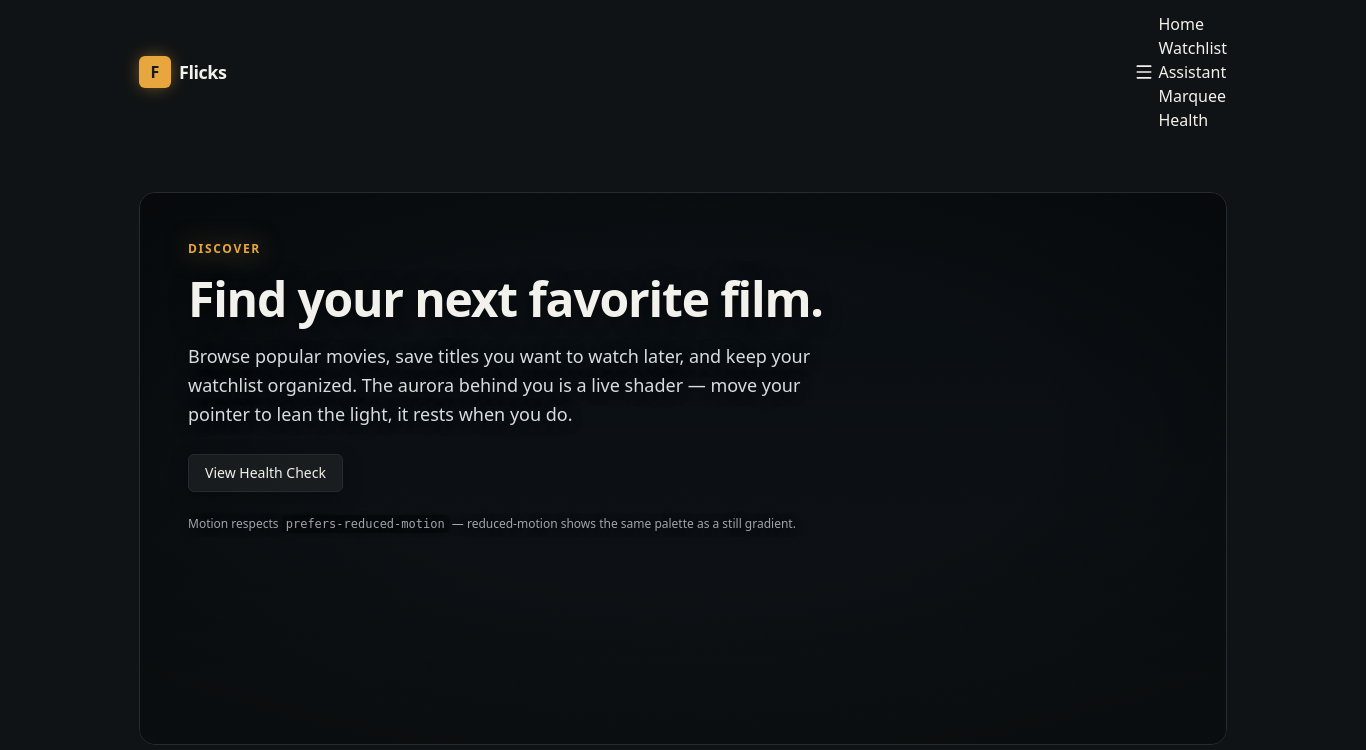
Test: App routing › navigates between routes without a full page load
Expected: the heading "Find your next favorite film." is shown, [188,266,823,331]
What coordinates should you click on to do the following:
click the link "Watchlist"
I would click on:
 (1193, 48)
Its box is [1158,36,1227,60].
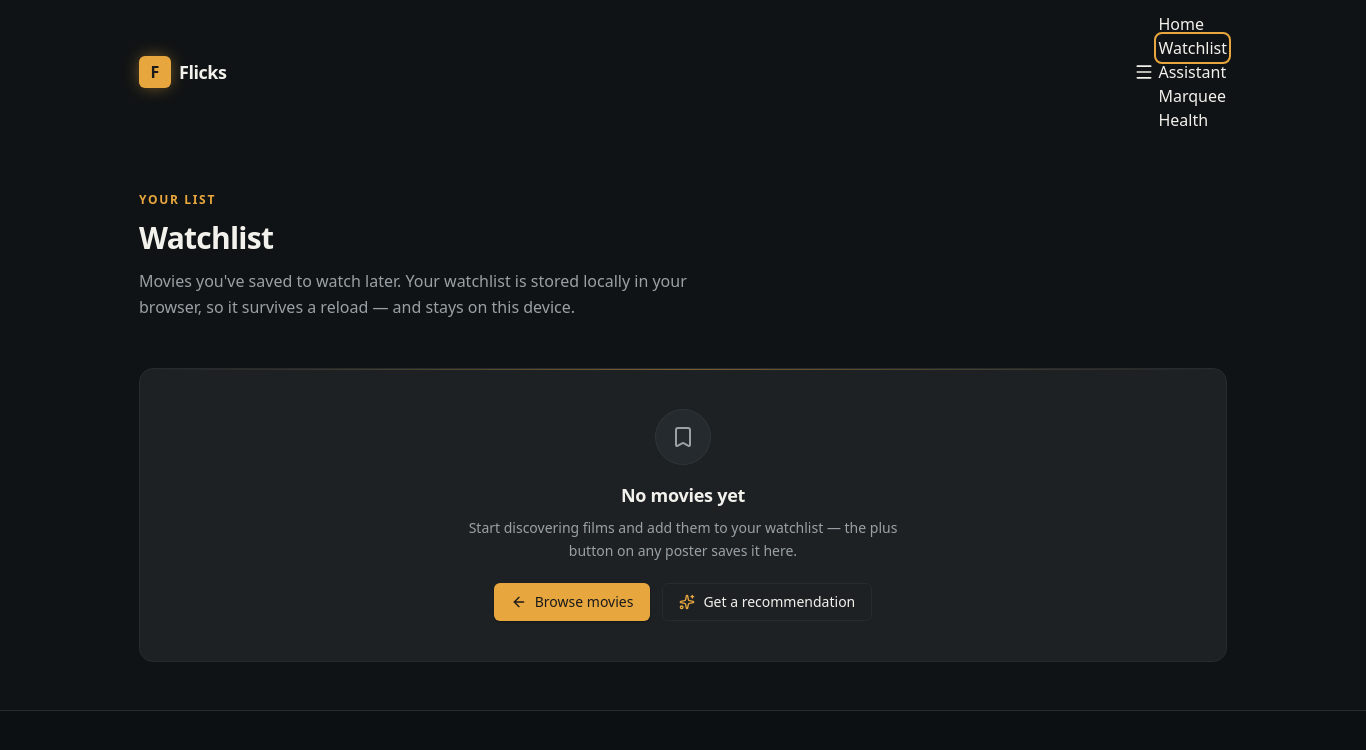
Expected: the heading "Watchlist" is shown, [139,220,273,256]
What coordinates should you click on to do the following:
click the link "Home"
I would click on:
 (1181, 24)
Its box is [1158,12,1204,36].
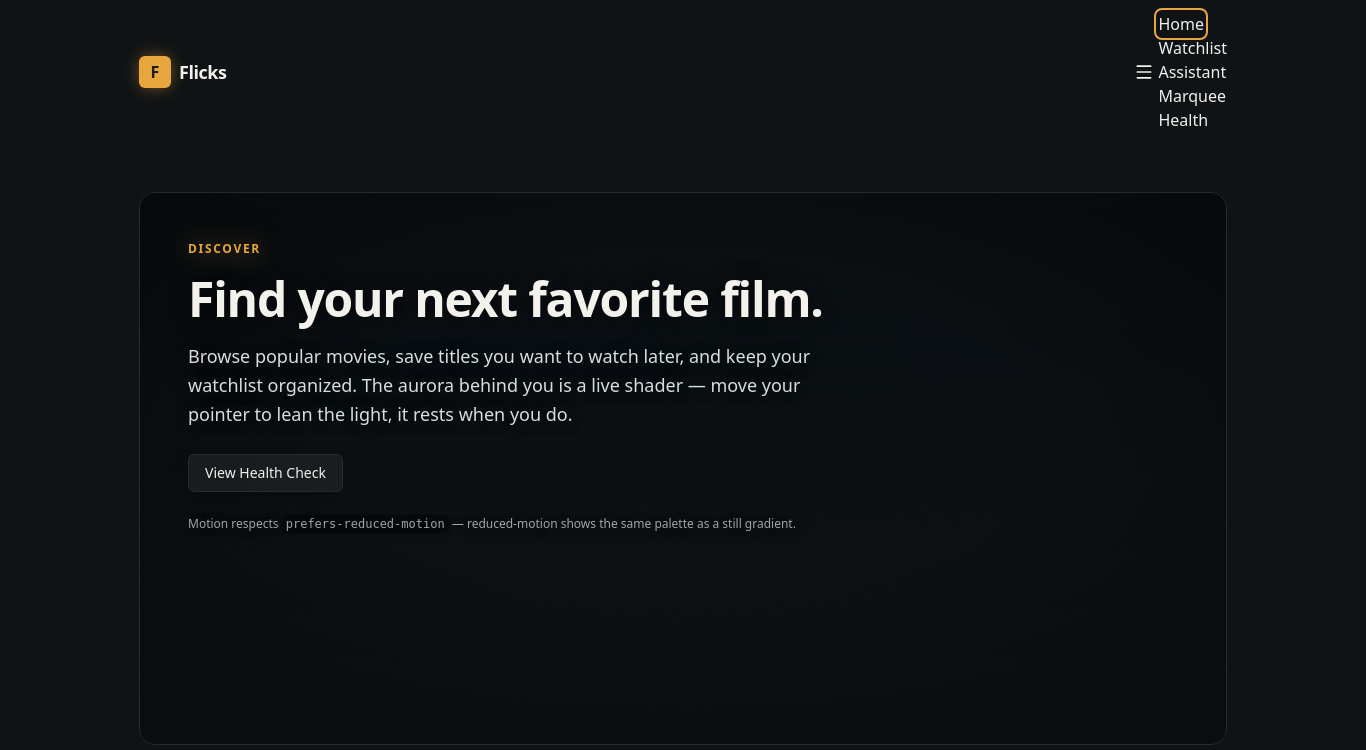
Expected: the heading "Find your next favorite film." is shown, [188,266,823,331]
